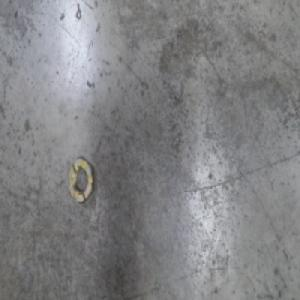Nut: (67, 157, 95, 205)
